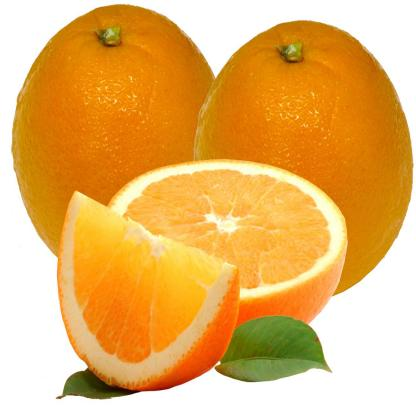orange: (178, 22, 414, 318), (6, 7, 230, 288)
